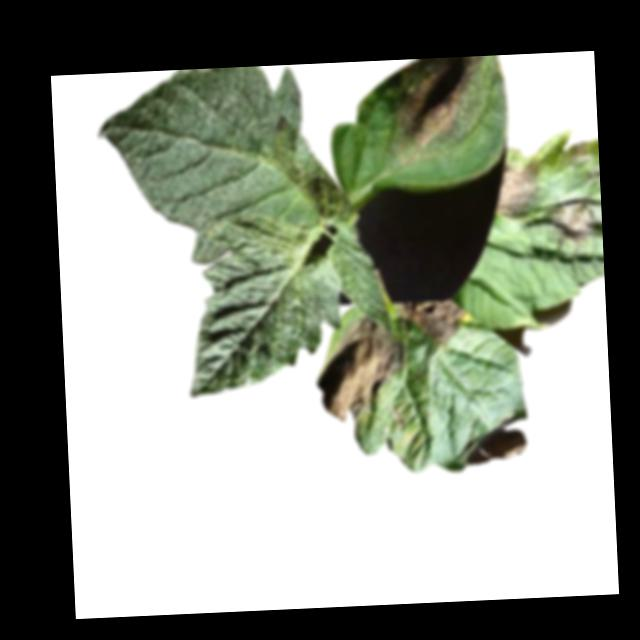Late_blight: (313, 312, 408, 422), (390, 57, 482, 151), (399, 296, 469, 350), (464, 412, 530, 464), (495, 159, 543, 221), (548, 194, 597, 246), (567, 142, 589, 162)
healthy: (95, 64, 322, 237), (180, 209, 340, 397), (326, 225, 390, 332)
